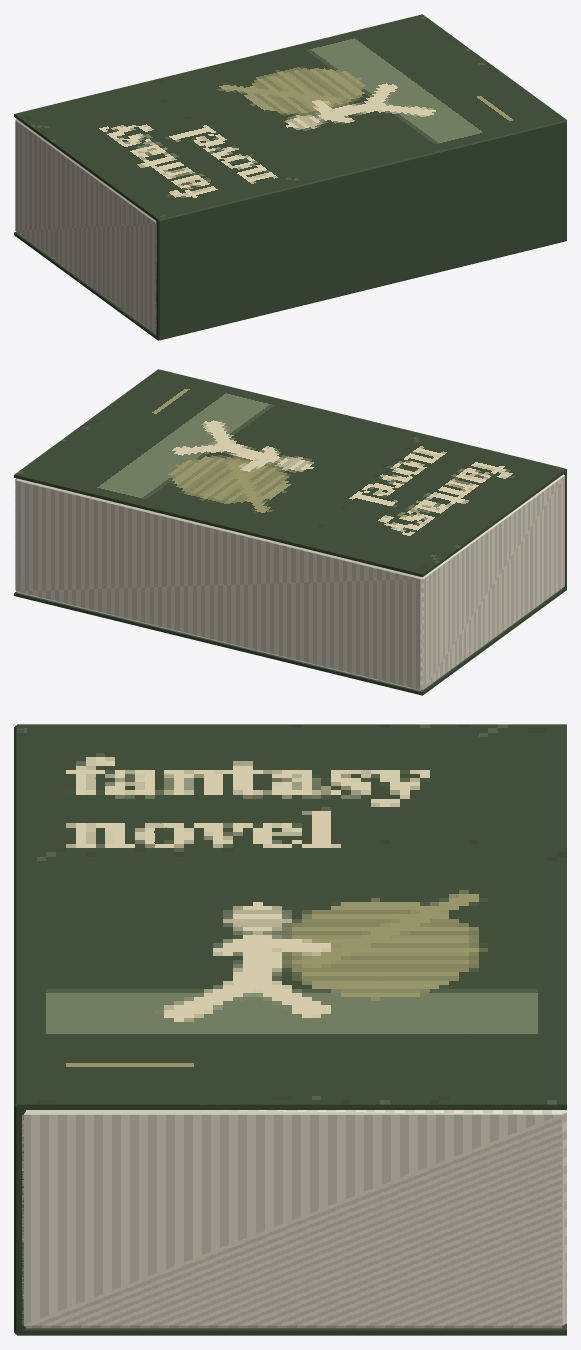
Rendered from novel_fantasy.glb.
3 views of the same model, one above another, from view 1: azimuth 30°, elevation 25°; view 2: azimuth 150°, elevation 25°; view 3: azimuth 270°, elevation 25° (orthographic). The views are drawn at different scales.
Parts seen in each view (by area): view 1: block_front, block_spine, block_pages, block_back; view 2: block_pages, block_front, block_back, block_spine; view 3: block_front, block_pages, block_spine, block_back.
Part boxes in pixels (box(x1,y1,x2,y2)): block_front: box(14, 14, 566, 221); block_spine: box(156, 120, 566, 340); block_pages: box(15, 119, 156, 334); block_back: box(14, 232, 566, 340); block_pages: box(15, 474, 564, 691); block_front: box(14, 369, 566, 577); block_back: box(14, 587, 566, 695); block_spine: box(158, 369, 566, 588); block_front: box(17, 724, 566, 1109); block_pages: box(22, 1110, 566, 1328); block_spine: box(14, 725, 25, 1334); block_back: box(17, 1324, 566, 1335).
Size of the model in its own units: 0.18 by 0.051 by 0.1106.
1 material, 1 textured.
